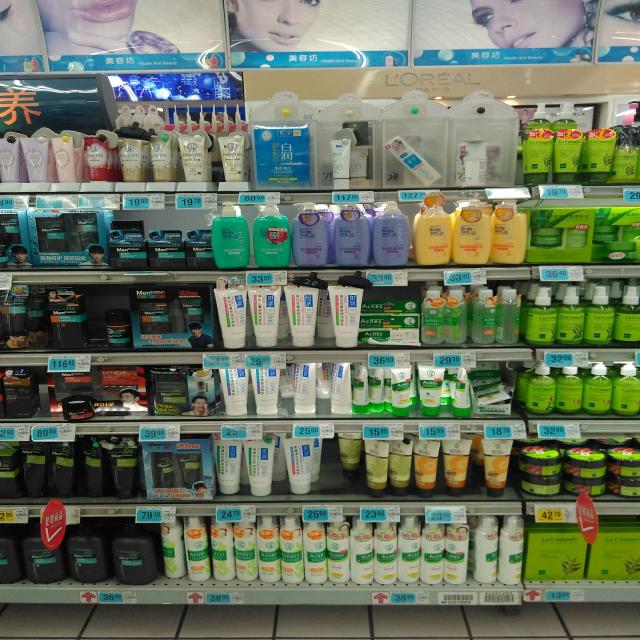unorganised: (471, 515, 524, 588), (354, 364, 416, 420), (493, 201, 529, 264), (327, 137, 355, 189), (338, 434, 363, 492), (289, 364, 317, 415), (499, 289, 524, 346), (160, 523, 185, 580), (324, 365, 350, 418), (25, 295, 50, 350), (444, 289, 468, 345), (474, 367, 508, 404), (447, 370, 469, 415)
